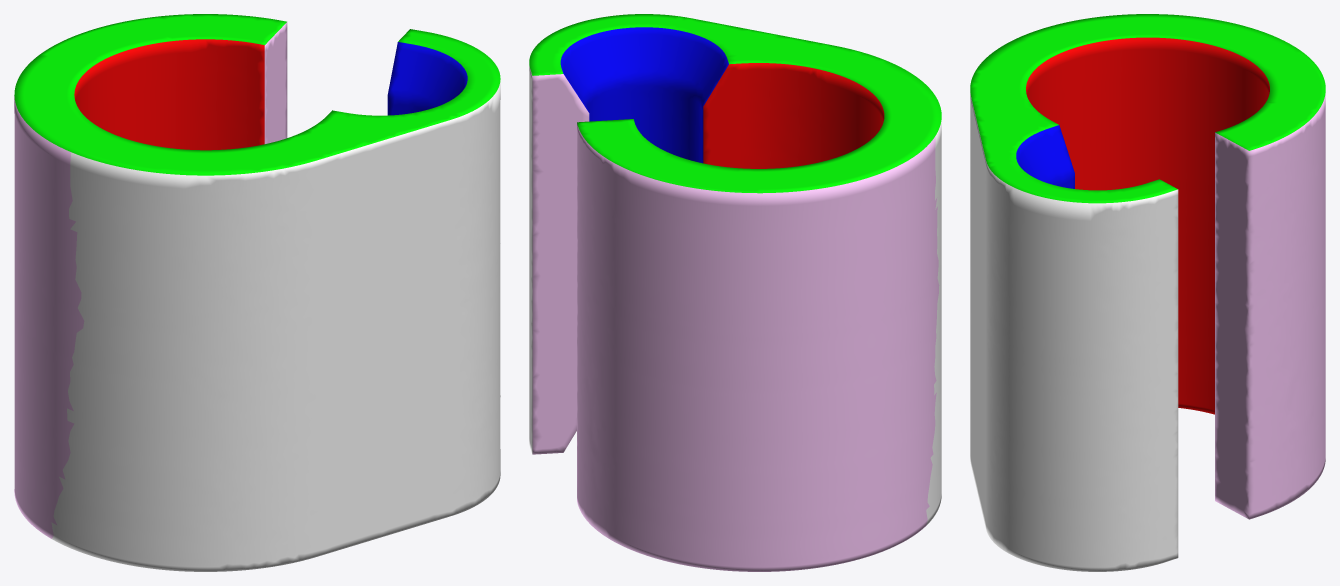
The model's file is model_37051_segmented.obj.
3 renders of one model, left to right at view 1: azimuth 30°, elevation 25°; view 2: azimuth 150°, elevation 25°; view 3: azimuth 270°, elevation 25°, orthographic. The views are drawn at different scales.
Bounding box in the file's own units: 8.81 × 8 × 6.99.
